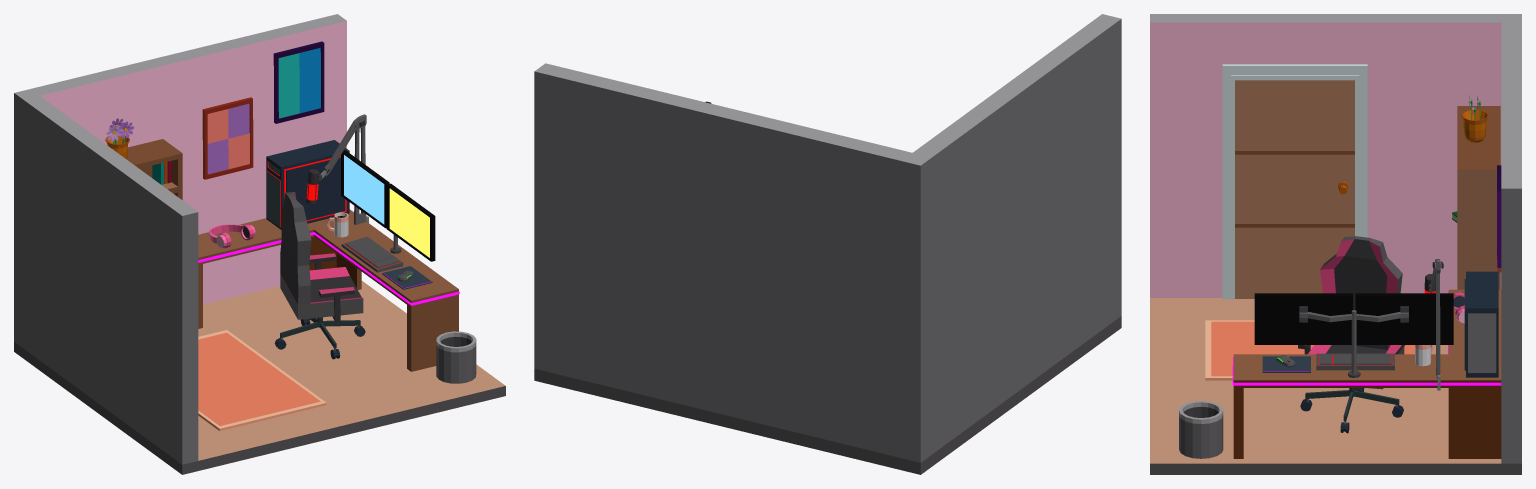
3 renders of one model, left to right at view 1: azimuth 30°, elevation 25°; view 2: azimuth 150°, elevation 25°; view 3: azimuth 270°, elevation 25°, orthographic. The views are drawn at different scales.
Visible parts, largest first — view 1: Estrutura.002, Cube.078, Cube.115, Cube.079, Cube.086, Cube.116, Cube.113, Cylinder.053, Cube.119, Cube.118, Cube.087, Cube.082 (+7 smaller); view 2: Estrutura.002; view 3: Estrutura.002, Cube.078, Cube.114, Cube.087, Cube.081, Cube.079, Cube.080, Cube.086, Cube.115, Cylinder.053, Cube.082, Cylinder.045 (+6 smaller).
Part boxes in pixels (x1=…): Estrutura.002: x1=14, y1=14, x2=505, y2=474; Cube.078: x1=198, y1=209, x2=458, y2=371; Cube.115: x1=198, y1=330, x2=326, y2=430; Cube.079: x1=280, y1=192, x2=363, y2=321; Cube.086: x1=266, y1=140, x2=349, y2=229; Cube.116: x1=273, y1=41, x2=324, y2=123; Cube.113: x1=202, y1=97, x2=253, y2=179; Cylinder.053: x1=436, y1=331, x2=476, y2=383; Cube.119: x1=389, y1=188, x2=429, y2=257; Cube.118: x1=344, y1=155, x2=384, y2=224; Cube.087: x1=126, y1=139, x2=182, y2=199; Cube.082: x1=341, y1=236, x2=403, y2=272; Estrutura.002: x1=534, y1=14, x2=1121, y2=474; Estrutura.002: x1=1150, y1=14, x2=1521, y2=474; Cube.078: x1=1233, y1=289, x2=1501, y2=458; Cube.114: x1=1222, y1=64, x2=1367, y2=299; Cube.087: x1=1457, y1=106, x2=1500, y2=289; Cube.081: x1=1254, y1=293, x2=1352, y2=344; Cube.079: x1=1298, y1=236, x2=1404, y2=389; Cube.080: x1=1355, y1=293, x2=1453, y2=344; Cube.086: x1=1464, y1=271, x2=1498, y2=377; Cube.115: x1=1205, y1=320, x2=1414, y2=380; Cylinder.053: x1=1179, y1=401, x2=1223, y2=458; Cube.082: x1=1316, y1=353, x2=1394, y2=370; Cylinder.045: x1=1299, y1=306, x2=1408, y2=377.
Bounding box in the file's own units: 200 × 153 × 180.
8 materials, 1 textured.
